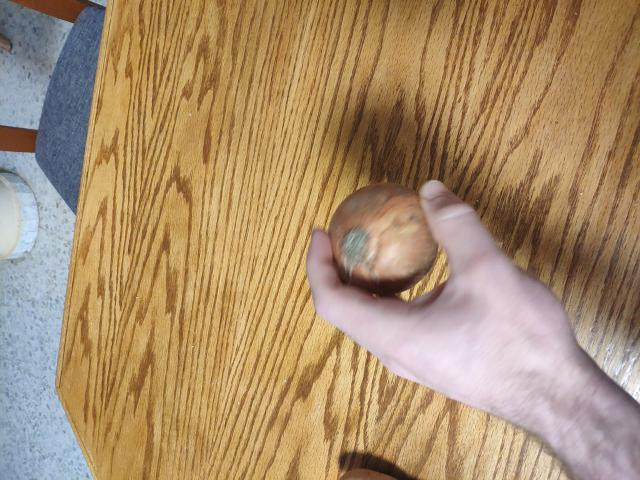onion: (321, 188, 453, 309)
